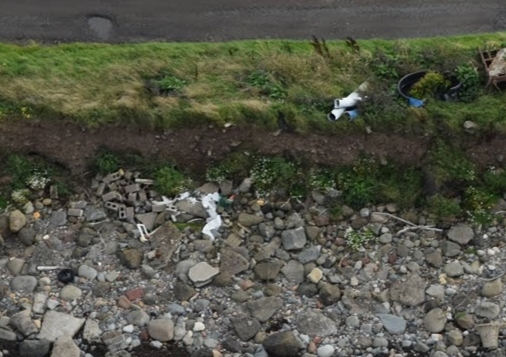net: (193, 190, 230, 242)
white_in_green: (379, 35, 479, 129), (304, 59, 392, 146), (46, 254, 91, 295)
